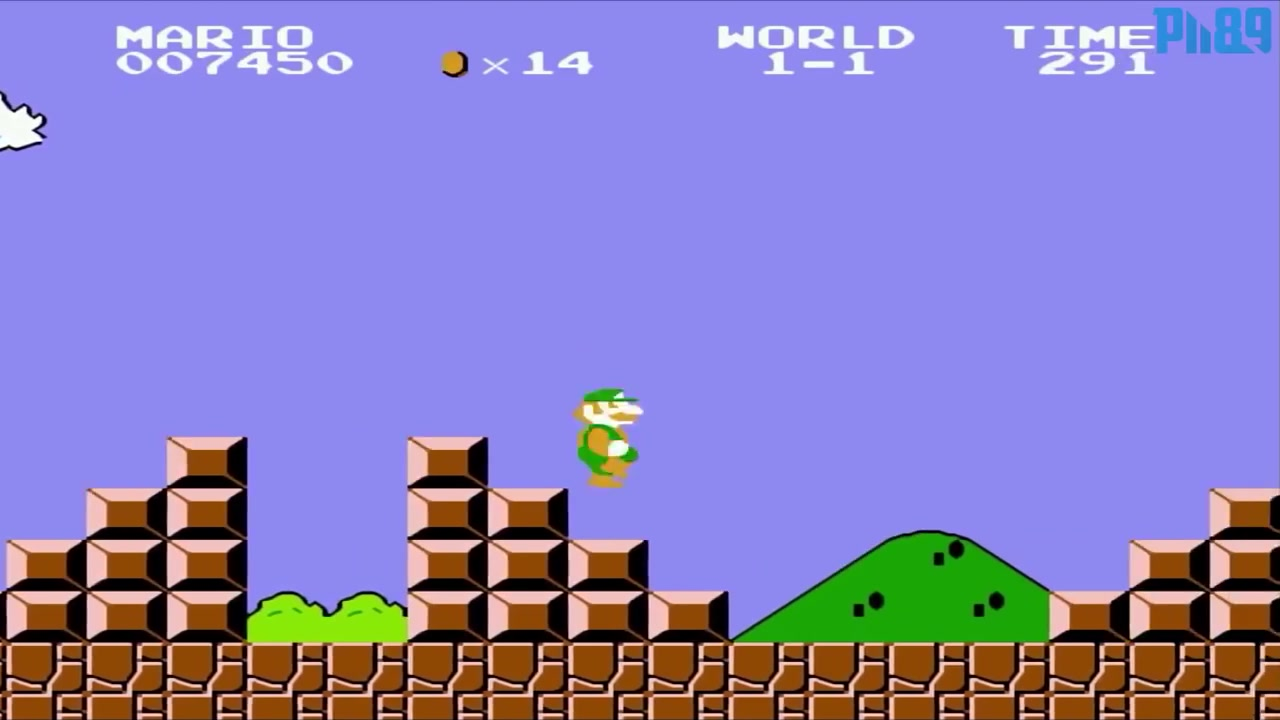mario: (558, 378, 646, 495)
